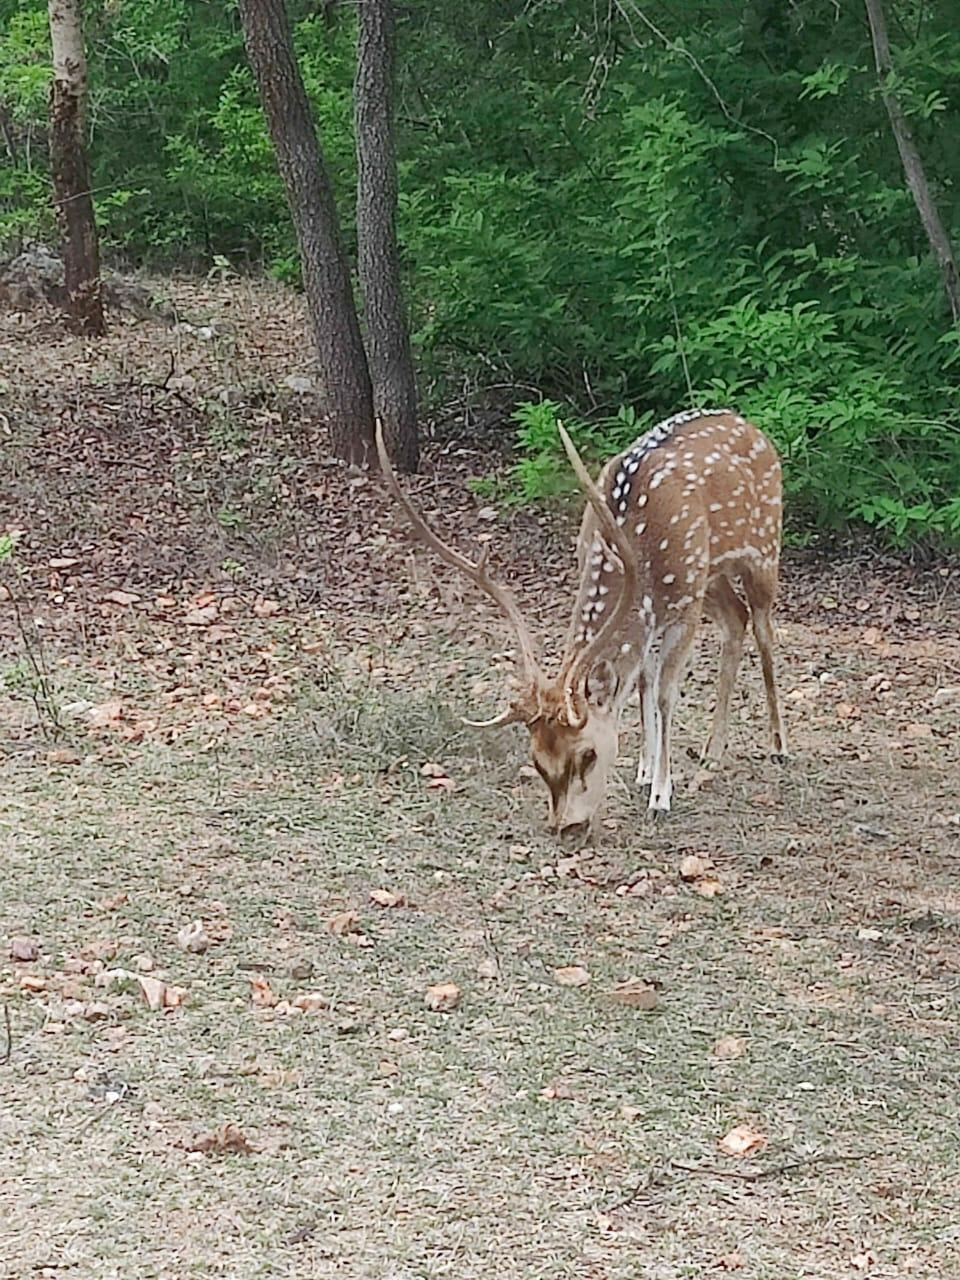Deer: (376, 410, 786, 833)
